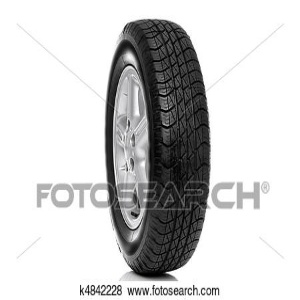tire: (103, 23, 210, 276)
